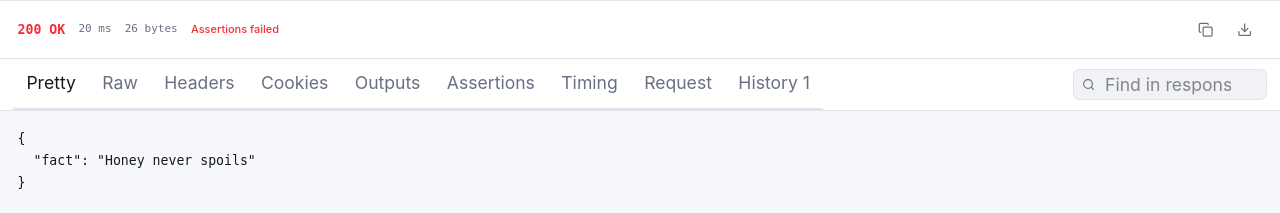
Test case: ResponseViewer › shows failed request assertions independently from HTTP success
Expected: the text "Assertions failed" is shown, [191,21,279,38]
Click the button "Assertions" at (491, 84), box [434,59,548,110]
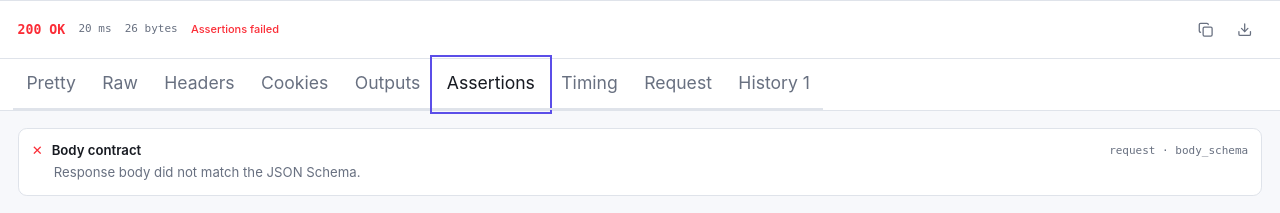
Result: the text "Body contract" is shown at [52,142,141,160]
Result: the text "Response body did not match the JSON Schema." is shown at [54,164,361,180]
